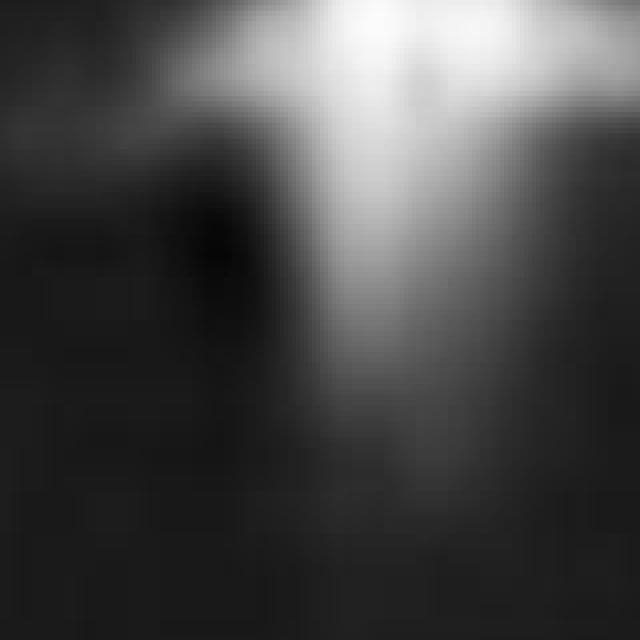person: (1, 1, 640, 454)
